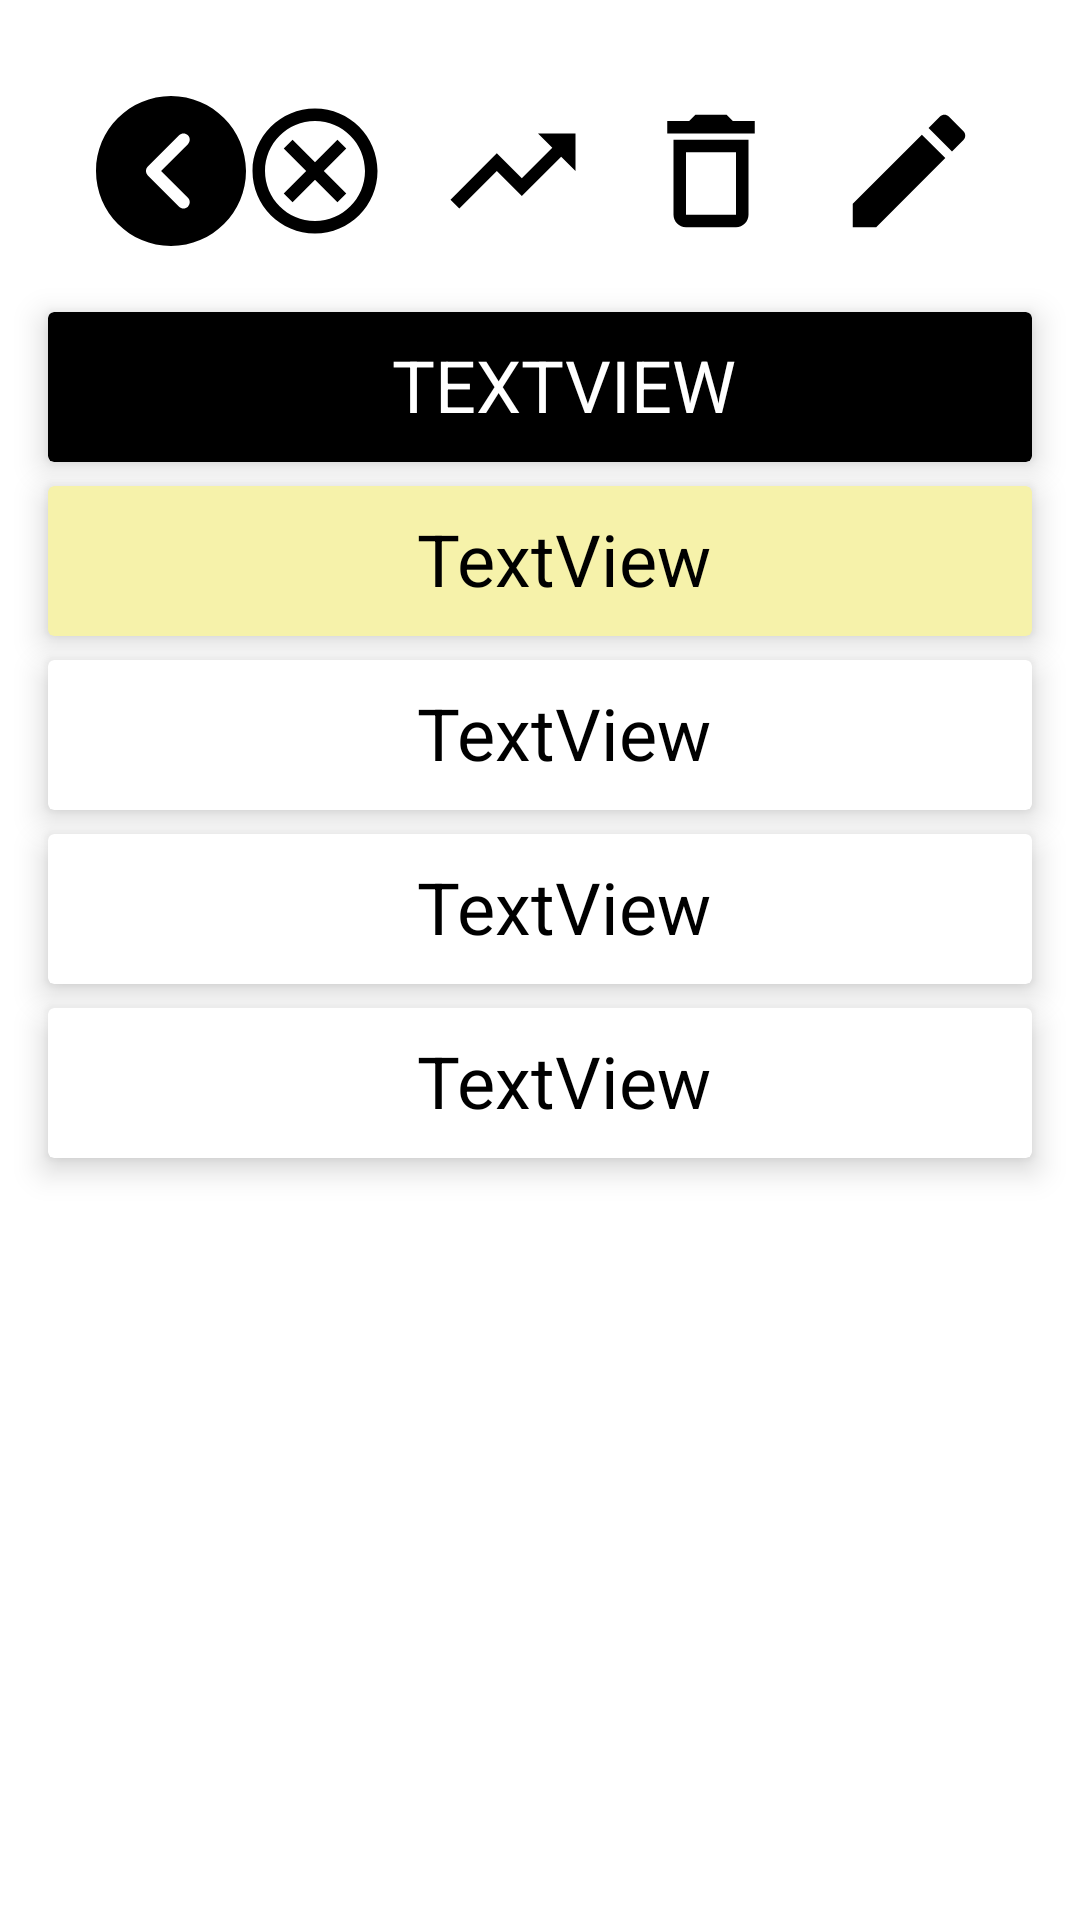

Icon click points for this 1080w x 1920h phone screenshot, format (x,y):
cancel: (315,171)
delete: (711,171)
edit card: (909,171)
left arrow: (171,171)
